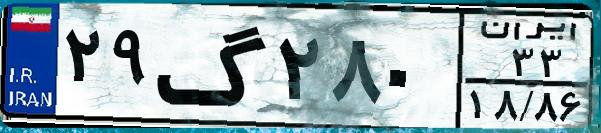0: (385, 28, 445, 110)
1: (470, 70, 495, 125)
2: (270, 28, 330, 110), (57, 26, 110, 100)
3: (537, 27, 568, 80), (508, 27, 537, 80)
6: (560, 70, 590, 125)
8: (330, 28, 385, 110), (495, 70, 520, 125), (535, 70, 560, 125)
9: (110, 28, 156, 98)
گ: (156, 12, 270, 120)
